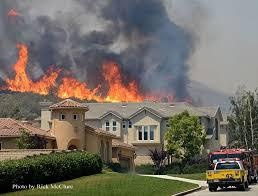fire: (3, 51, 157, 102)
